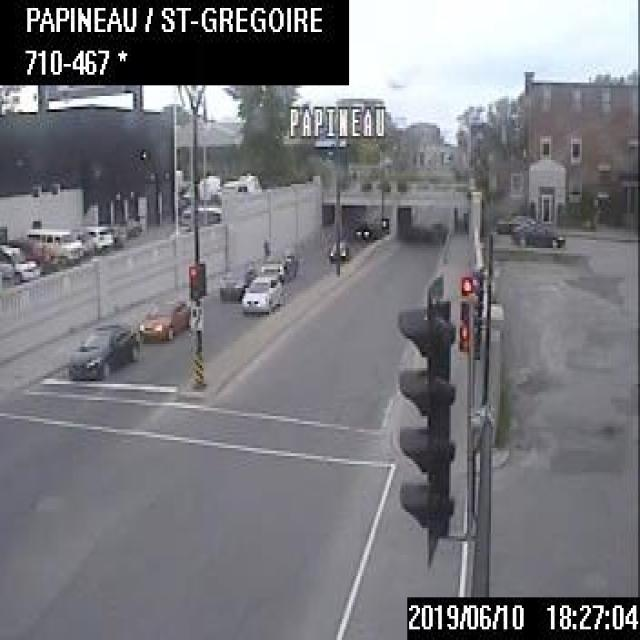vehicle: (69, 318, 140, 376), (135, 296, 193, 342), (22, 225, 84, 268), (511, 216, 568, 251), (218, 253, 256, 301), (0, 240, 40, 285), (240, 273, 284, 312), (256, 246, 298, 283), (77, 221, 113, 253), (353, 216, 376, 241), (327, 238, 349, 262)
